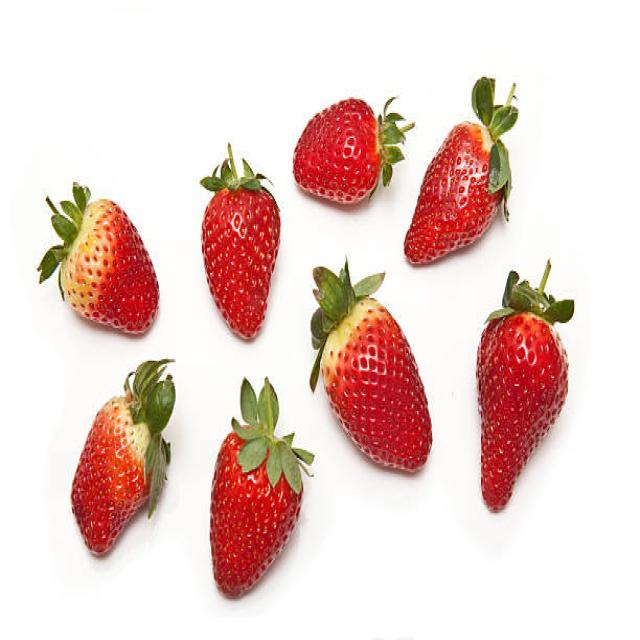Healthy Fruit: (322, 294, 433, 474), (476, 310, 571, 513), (210, 426, 304, 597), (404, 118, 505, 267), (72, 392, 157, 559), (58, 196, 159, 336), (200, 184, 281, 342), (290, 97, 382, 205)
